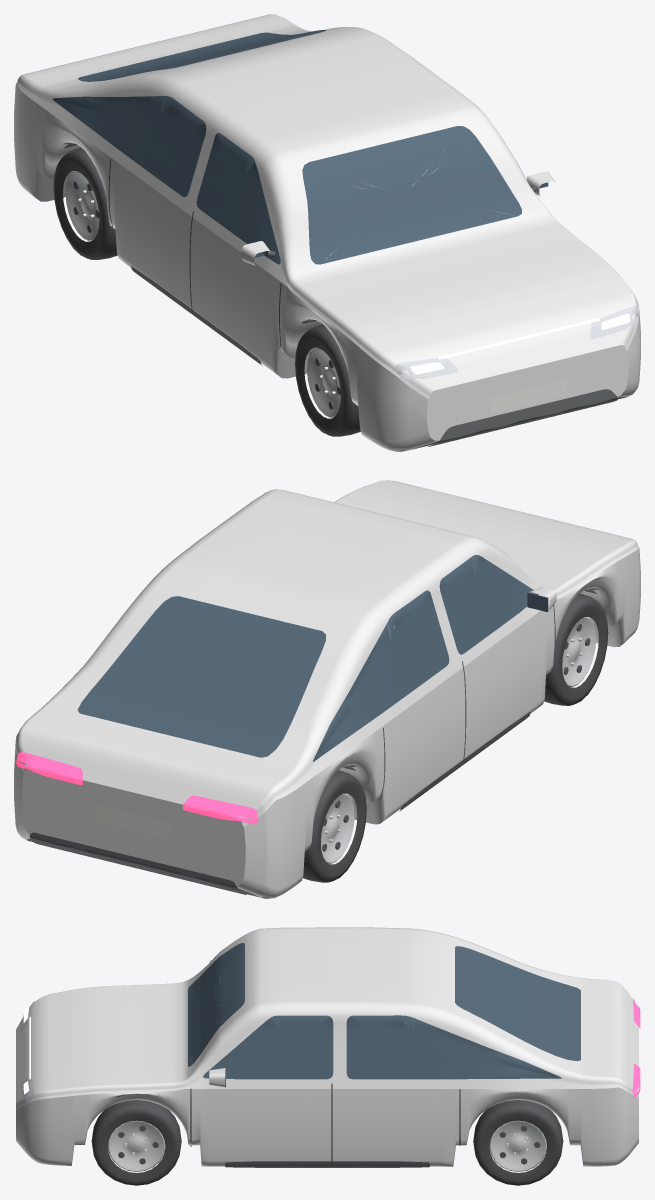
The model's file is car-ev.glb.
3 views of the same model, one above another, from view 1: azimuth 30°, elevation 25°; view 2: azimuth 150°, elevation 25°; view 3: azimuth 270°, elevation 25° (orthographic). The views are drawn at different scales.
Parts seen in each view (by area): view 1: car-ev; view 2: car-ev; view 3: car-ev.
Part boxes in pixels (x1,y1,x2,y2): car-ev: (14,14,640,451); car-ev: (14,480,640,898); car-ev: (16,927,640,1185).
Bounding box in the file's own units: 2.12 × 1.44 × 4.73.
